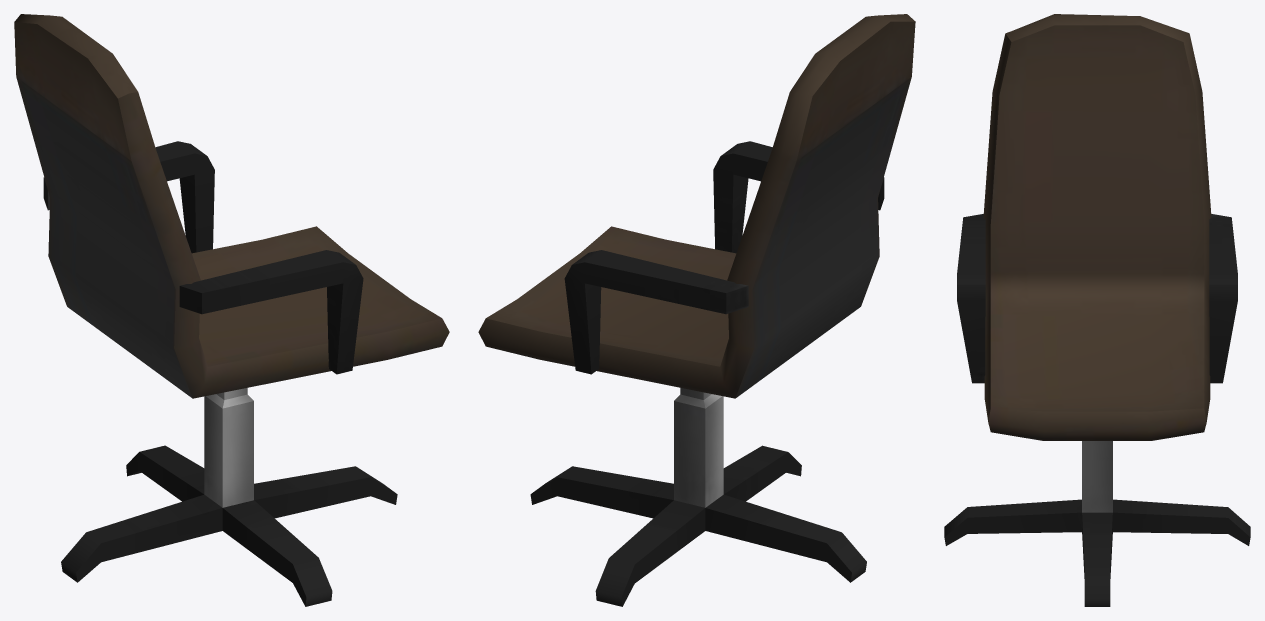
The picture shows the model from 3 angles, left to right: view 1: azimuth 30°, elevation 25°; view 2: azimuth 150°, elevation 25°; view 3: azimuth 270°, elevation 25°; orthographic projection. The views are drawn at different scales.
Visible parts, largest first — view 1: chair_low, base_low, rightrest_low, leftrest_low; view 2: chair_low, base_low, leftrest_low, rightrest_low; view 3: chair_low, base_low, rightrest_low, leftrest_low.
Boxes of the visible parts, <box> form: chair_low: <box>14,14,449,398</box>; base_low: <box>61,388,397,606</box>; rightrest_low: <box>179,250,363,374</box>; leftrest_low: <box>43,141,214,253</box>; chair_low: <box>478,14,915,398</box>; base_low: <box>530,388,866,606</box>; leftrest_low: <box>564,250,748,374</box>; rightrest_low: <box>713,141,884,253</box>; chair_low: <box>983,14,1211,440</box>; base_low: <box>944,441,1250,606</box>; rightrest_low: <box>957,214,985,383</box>; leftrest_low: <box>1209,214,1237,383</box>.
Size of the model in its own units: 1.27 by 2 by 1.21.
Materials: 1 (1 with a texture image).
